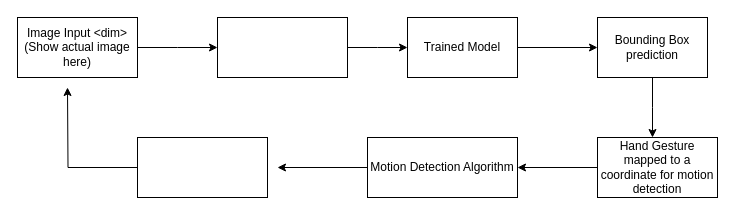
Image size: 735x215. Some labels were removed from this diagram. Here are the shapes that lost their labels. From the top down, the centre of each, then its label:
At point 282,47: "Image preprocessing".
At point 202,167: "Initiating mapped Computer Controls".
